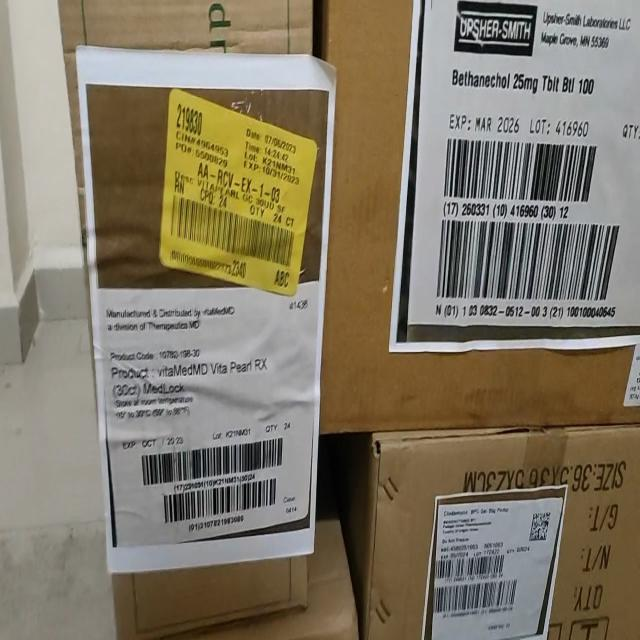BoxFace: (53, 0, 326, 633), (314, 1, 638, 430), (338, 425, 638, 637)
